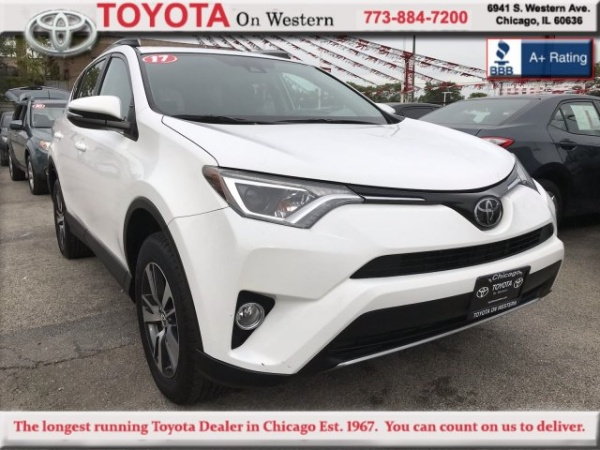Toyota RAV-4: (48, 45, 566, 407)
